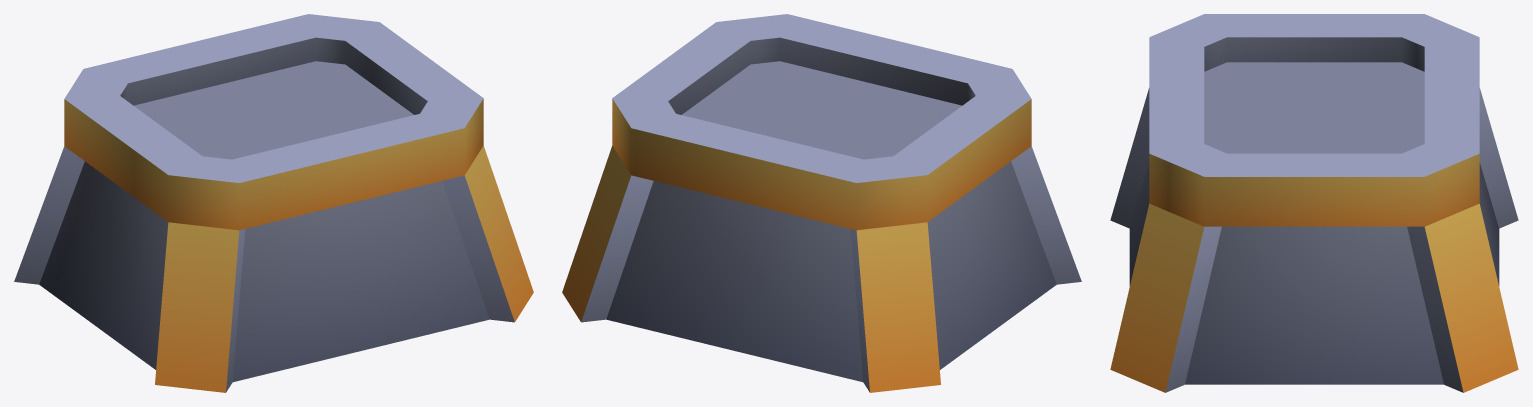
File: table-inset-small.glb
3 views of the same model, side by side, from view 1: azimuth 30°, elevation 25°; view 2: azimuth 150°, elevation 25°; view 3: azimuth 270°, elevation 25° (orthographic). The views are drawn at different scales.
Parts seen in each view (by area): view 1: table-inset-small; view 2: table-inset-small; view 3: table-inset-small.
Boxes of the visible parts, x1,y1,x2,y2 form: table-inset-small: [14, 14, 533, 392]; table-inset-small: [562, 14, 1081, 392]; table-inset-small: [1110, 14, 1518, 392].
Bounding box in the file's own units: 0.8414 × 0.4 × 0.7415.
